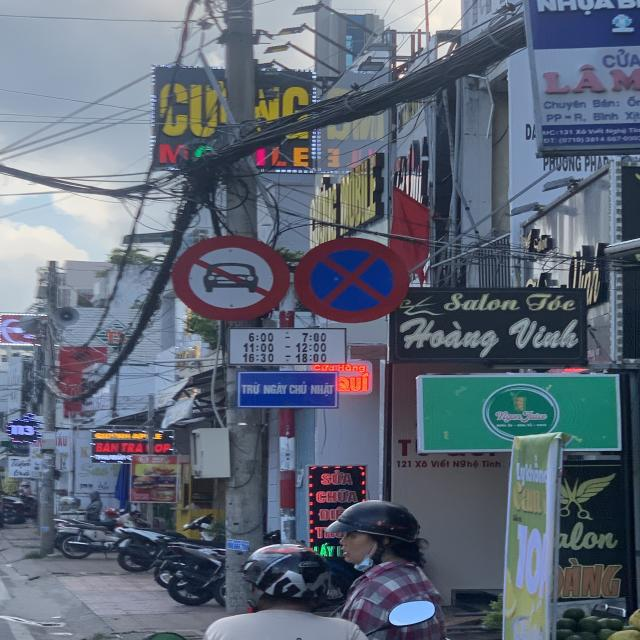Cam_Dung_Va_Dau_Xe: (294, 237, 408, 324)
Cam_O_To: (170, 234, 290, 320)
